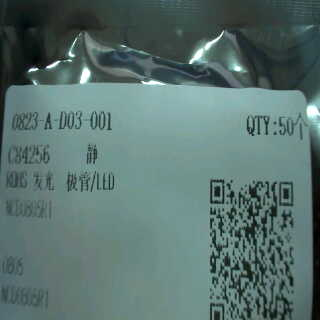LED: (29, 166, 119, 198)
